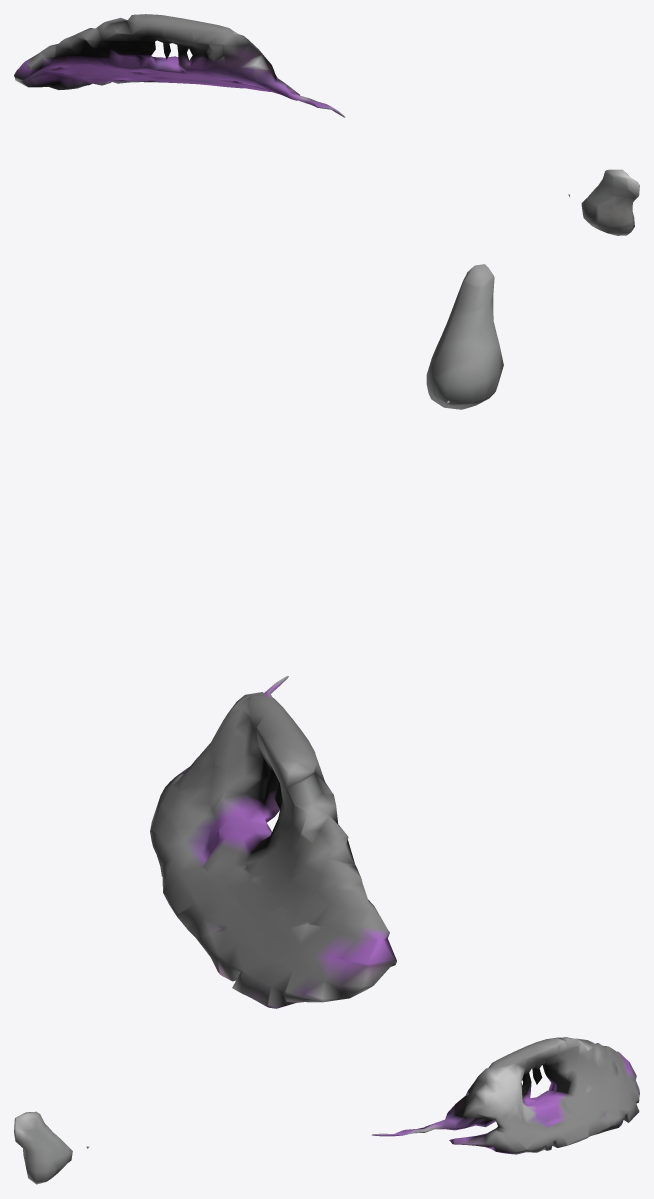
The model's file is a graspable earphone.obj.
The picture shows the model from 3 angles, top to bottom: view 1: azimuth 30°, elevation 25°; view 2: azimuth 150°, elevation 25°; view 3: azimuth 270°, elevation 25°; orthographic projection. The views are drawn at different scales.
Size of the model in its own units: 0.5007 by 0.1739 by 0.9924.
